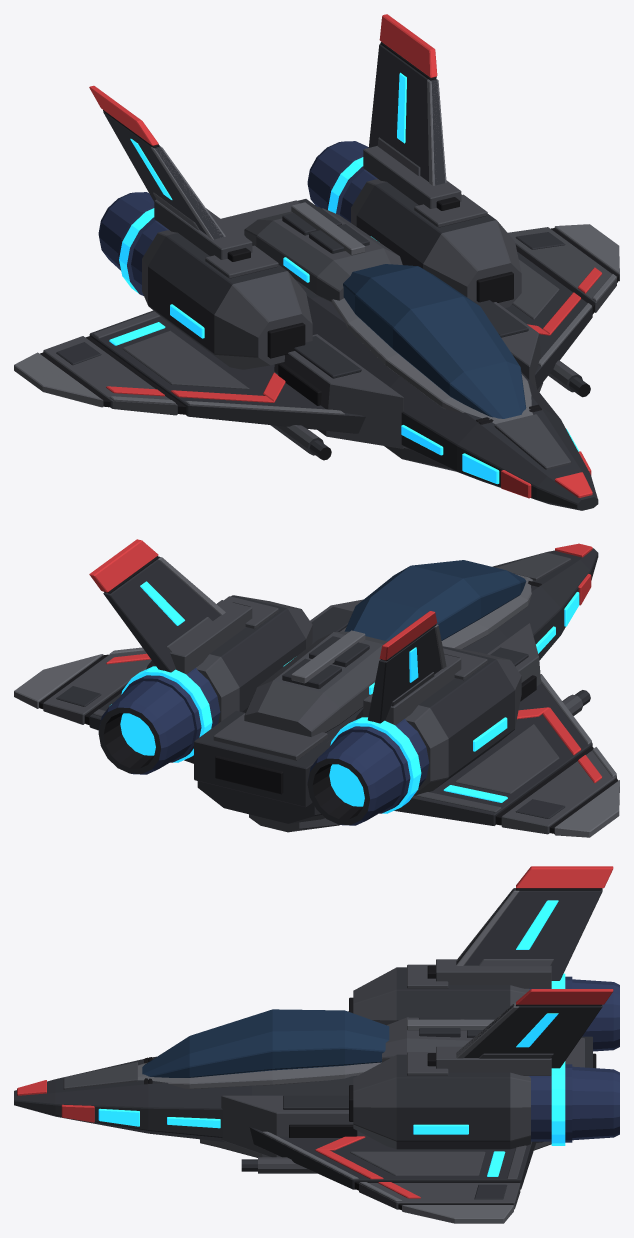
File: ship.glb
The picture shows the model from 3 angles, top to bottom: view 1: azimuth 30°, elevation 25°; view 2: azimuth 150°, elevation 25°; view 3: azimuth 270°, elevation 25°; orthographic projection. The views are drawn at different scales.
Visible parts, largest first — view 1: Ship; view 2: Ship; view 3: Ship.
Part boxes in pixels (x1,y1,x2,y2): Ship: [14, 14, 619, 510]; Ship: [14, 539, 619, 837]; Ship: [14, 866, 619, 1223].
Bounding box in the file's own units: 2.76 × 1.17 × 2.93.
